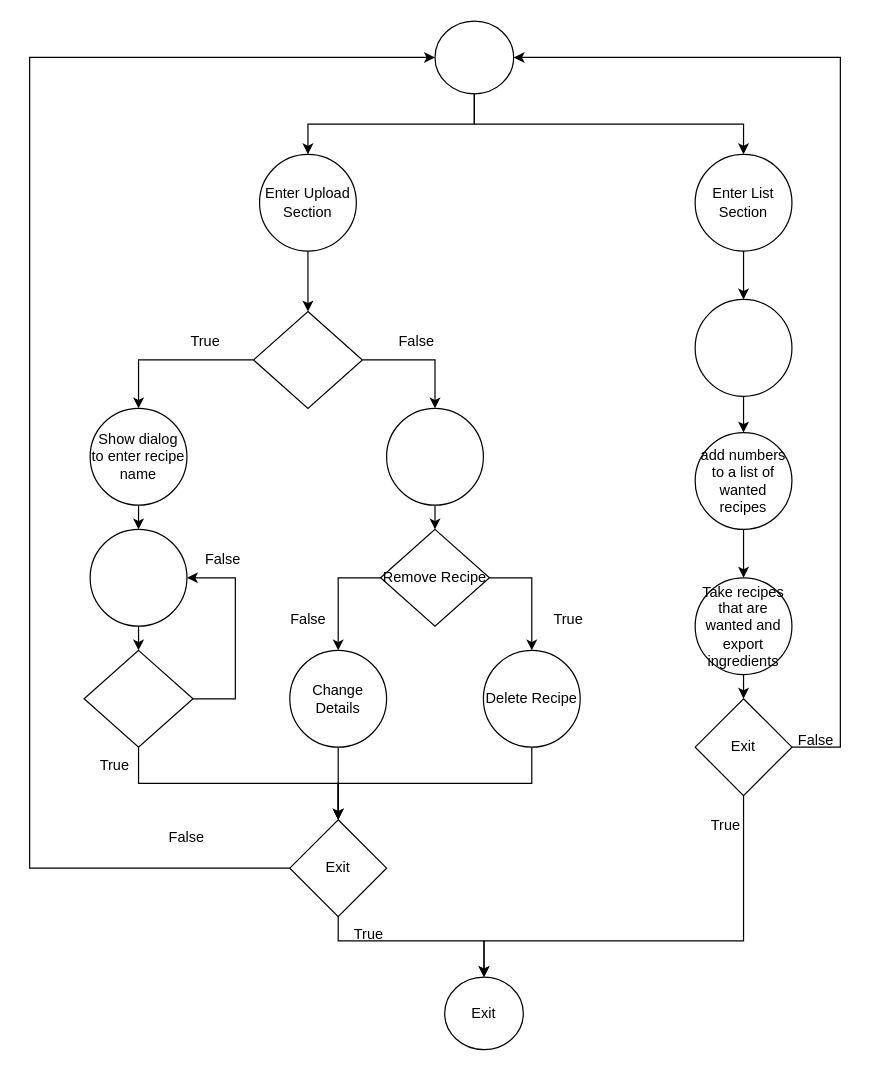
The diagram is 874 pixels wide and 1071 high, and some of its shapes have lost their labels. Each missing label, with the box of its shape:
Edit Recipe: (385, 407, 483, 505)
End Recipe Entered: (83, 649, 193, 747)
Enter New Recipe: (252, 310, 362, 408)
Show dialog to enter recipe ingredients and way to end: (89, 528, 187, 626)
Show list of Uploaded Recipes with numbers: (694, 298, 792, 396)
Start: (434, 20, 514, 94)
